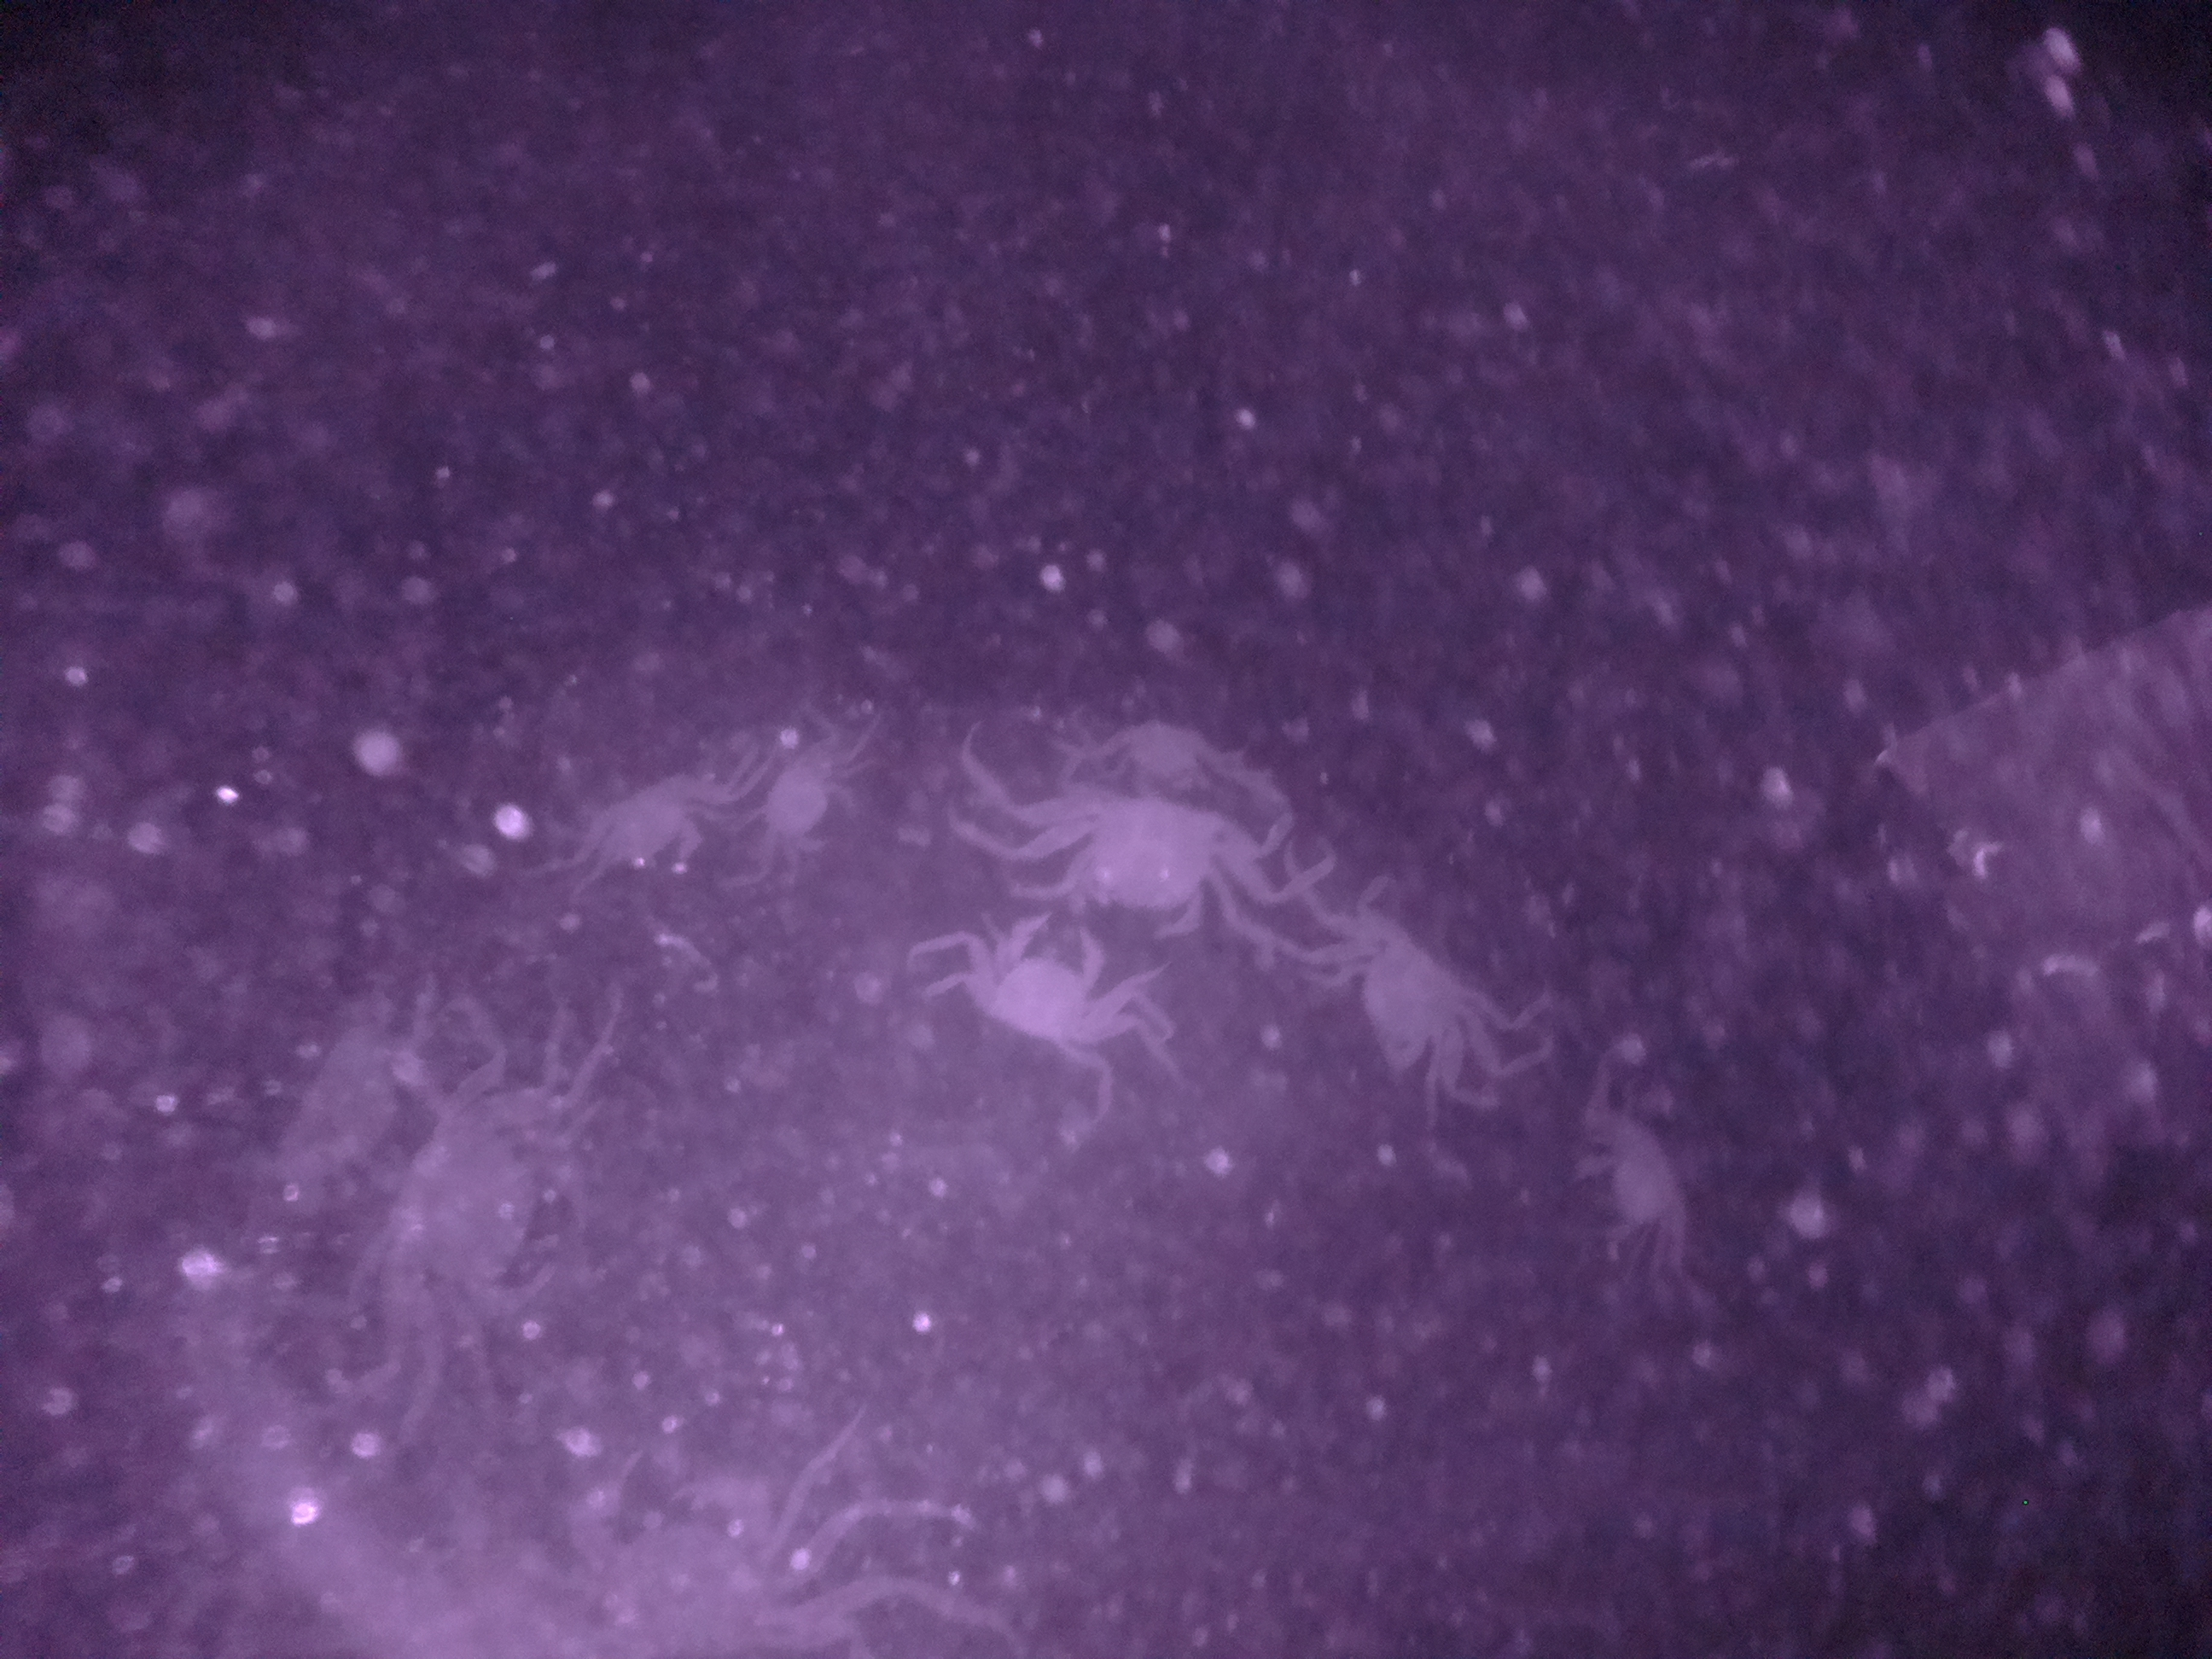Crab: (928, 904, 1137, 1063), (742, 732, 878, 871)
